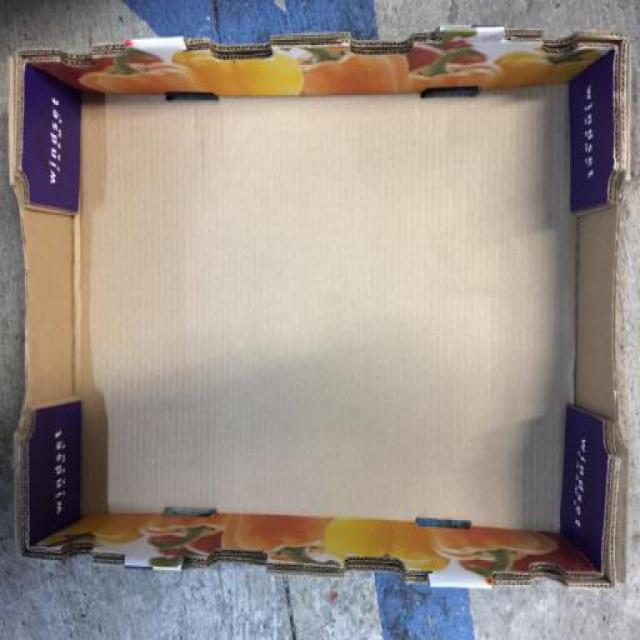cardboard: (1, 27, 640, 640)
